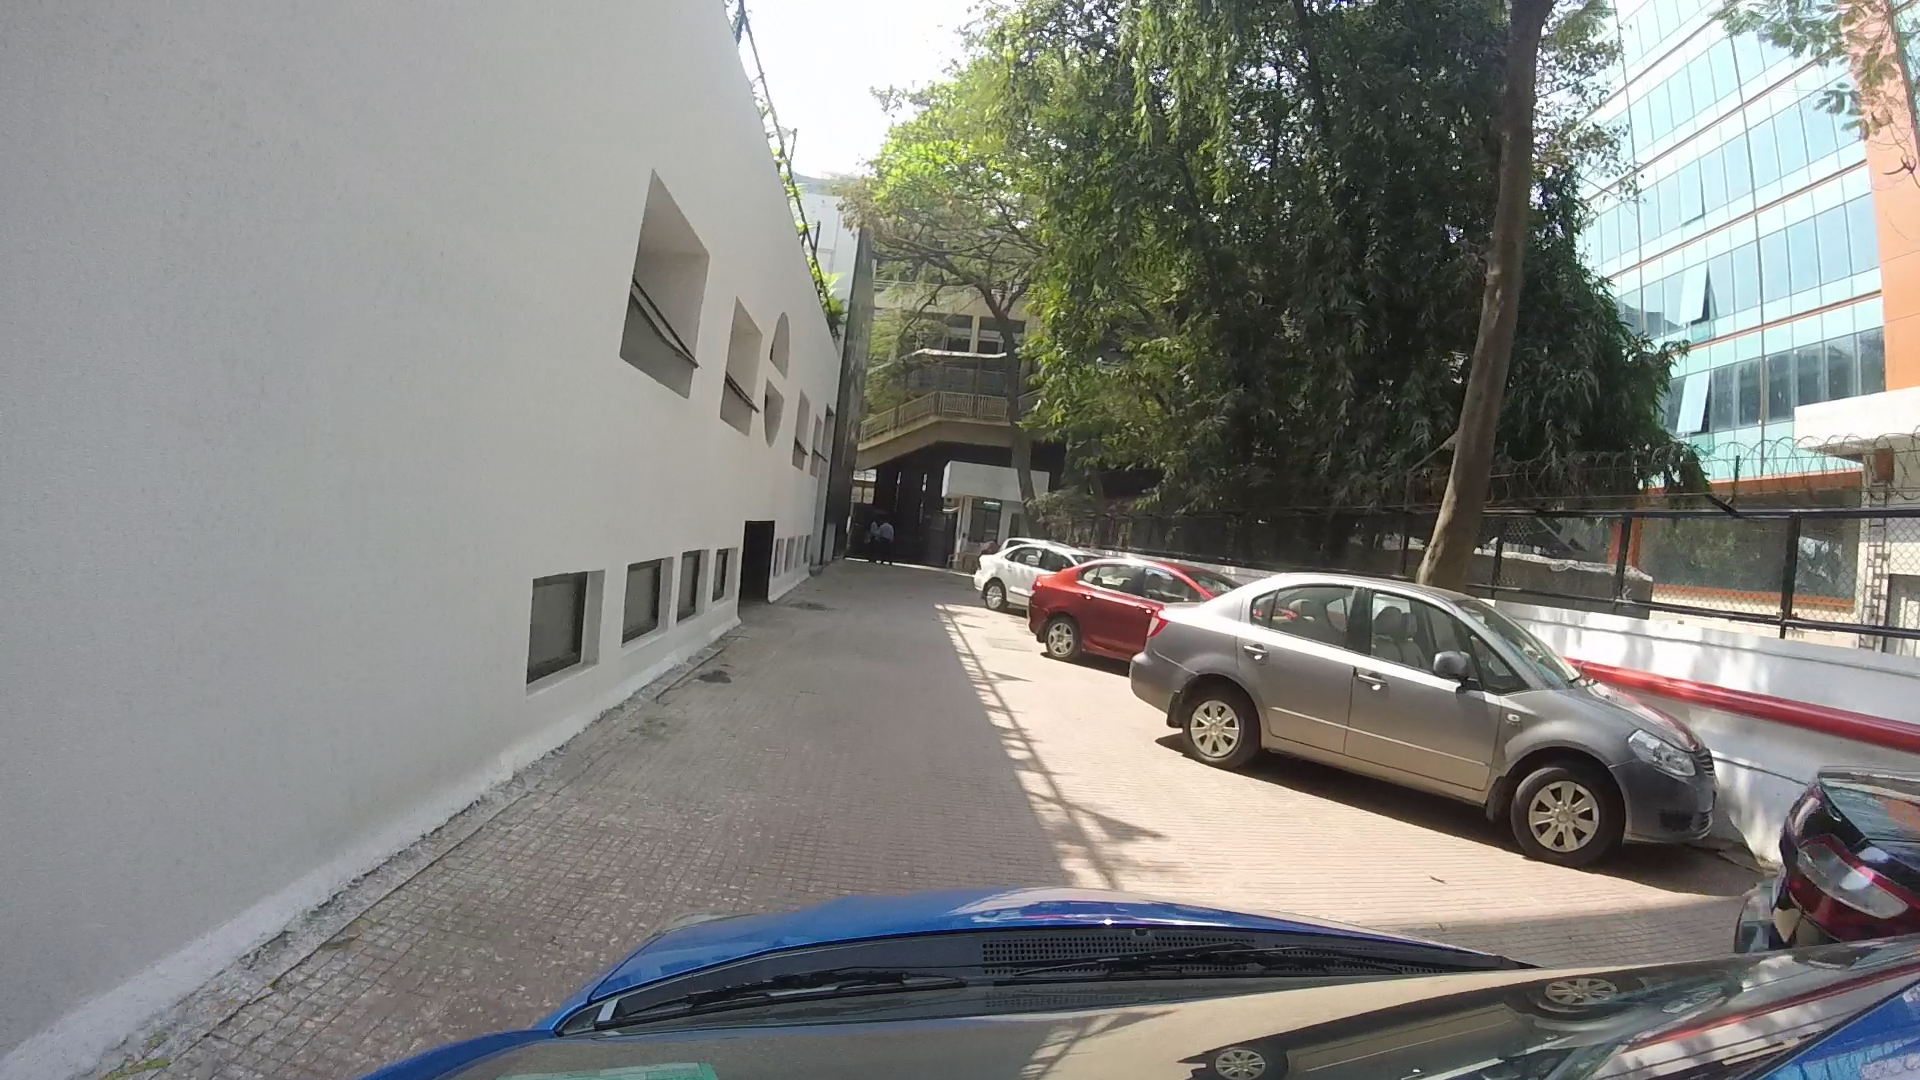car: (1122, 556, 1743, 860), (1019, 545, 1205, 663), (978, 530, 1087, 616)
